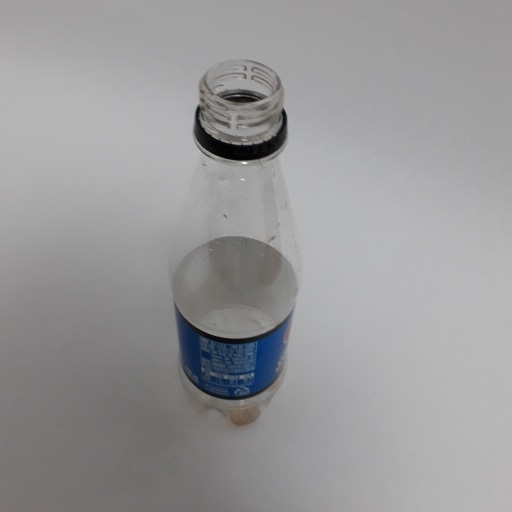Plastic_0: (166, 57, 304, 429)
